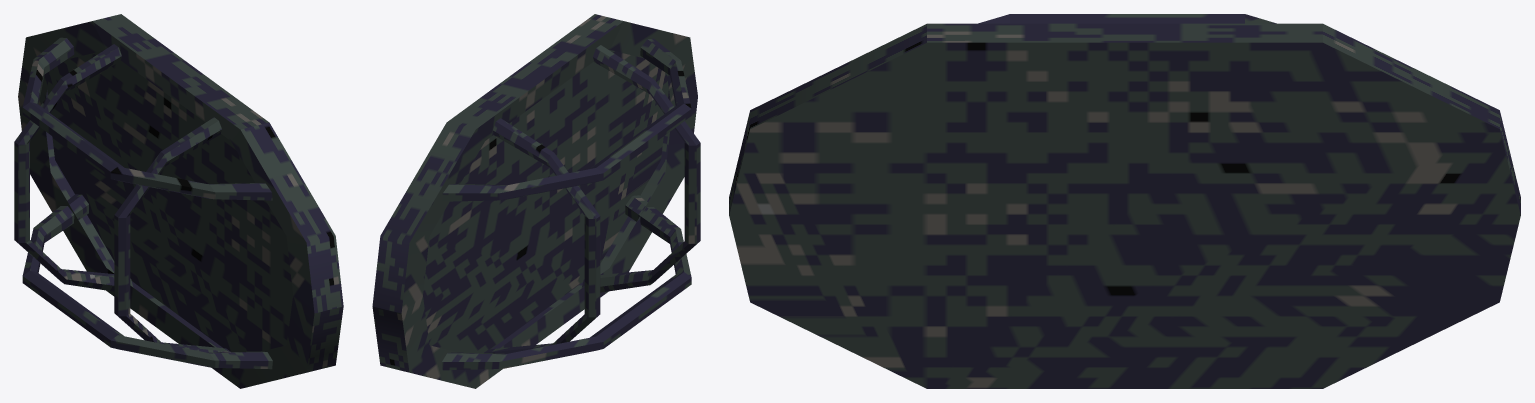
File: Lamp horizontal cage.fbx
3 renders of one model, left to right at view 1: azimuth 30°, elevation 25°; view 2: azimuth 150°, elevation 25°; view 3: azimuth 270°, elevation 25°, orthographic. The views are drawn at different scales.
Parts seen in each view (by area): view 1: Sphere; view 2: Sphere; view 3: Sphere.
Boxes of the visible parts, x1,y1,x2,y2 form: Sphere: (14,14,343,388); Sphere: (372,14,700,388); Sphere: (729,14,1520,388).
Size of the model in its own units: 5.21 by 10.06 by 20.85.
1 material, 1 textured.
